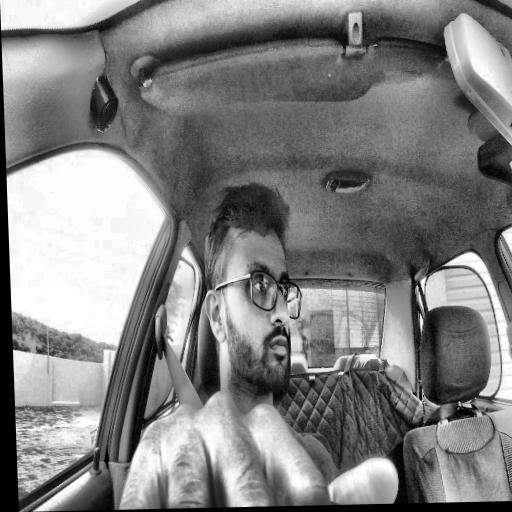awake: (200, 181, 305, 396)
